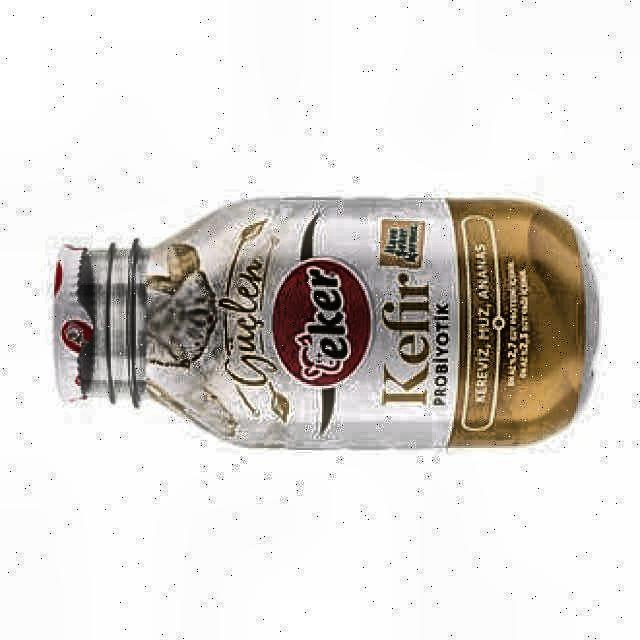plastic: (55, 199, 596, 448)
